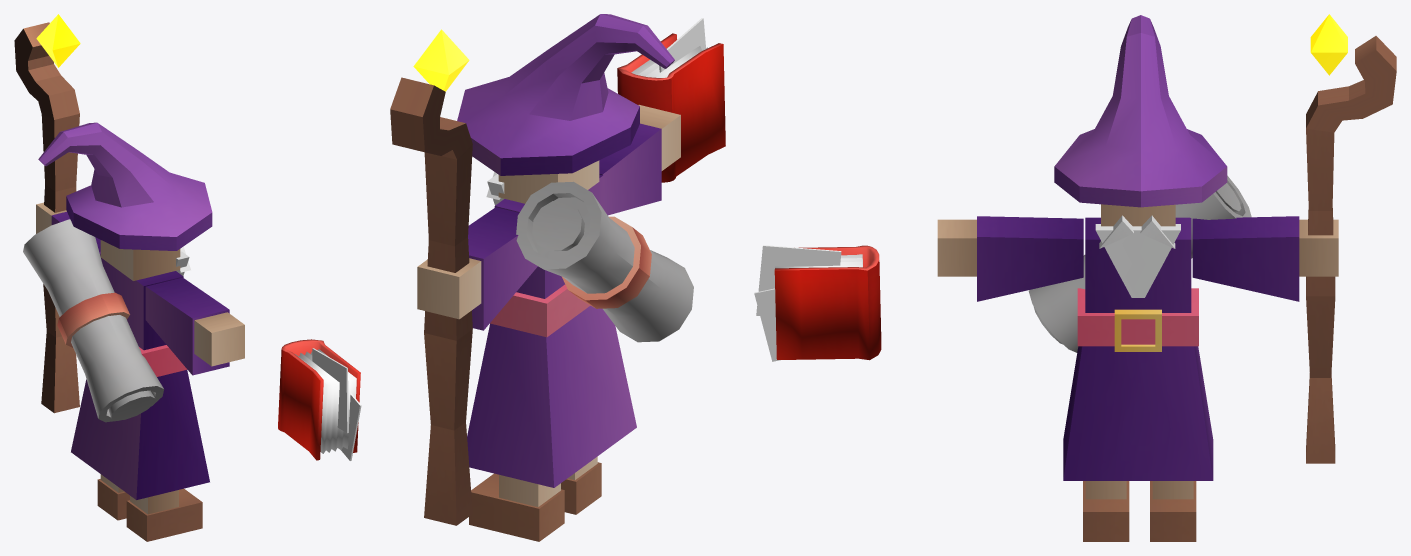
Rendered from mage1.glb.
3 views of the same model, side by side, from view 1: azimuth 30°, elevation 25°; view 2: azimuth 150°, elevation 25°; view 3: azimuth 270°, elevation 25° (orthographic). The views are drawn at different scales.
Parts seen in each view (by area): view 1: Cylinder.001, Cylinder, Cube.002, Cube.005, Cube.168, Cube.013, Cube.007, Cube.001, Cube.014, Cube.169, Cube, Cylinder.002 (+7 smaller); view 2: Cube.002, Cylinder.001, Cube.005, Cylinder, Cube.168, Cube.003, Cube.013, Cube.010, Cube.004, Cube.011, Cylinder.002, Cube.008 (+7 smaller); view 3: Cube.002, Cylinder.001, Cube.005, Cube.168, Cube.003, Cube.013, Cube.001, Cylinder, Cube.011, Cube.015, Cube.014, Cube.007 (+10 smaller).
Boxes of the visible parts, bbox=[...] form: Cylinder.001: bbox=[38, 122, 212, 250]; Cylinder: bbox=[23, 219, 164, 422]; Cube.002: bbox=[71, 370, 209, 499]; Cube.005: bbox=[14, 22, 79, 413]; Cube.168: bbox=[278, 339, 360, 460]; Cube.013: bbox=[145, 277, 229, 375]; Cube.007: bbox=[126, 488, 202, 541]; Cube.001: bbox=[99, 251, 183, 350]; Cube.014: bbox=[194, 312, 244, 366]; Cube.169: bbox=[295, 349, 356, 453]; Cube: bbox=[100, 240, 180, 280]; Cylinder.002: bbox=[57, 292, 129, 347]; Cube.002: bbox=[467, 305, 636, 487]; Cylinder.001: bbox=[457, 14, 674, 175]; Cube.005: bbox=[390, 77, 472, 525]; Cylinder: bbox=[516, 181, 693, 342]; Cube.168: bbox=[617, 33, 725, 182]; Cube.003: bbox=[468, 207, 537, 330]; Cube.013: bbox=[599, 123, 661, 215]; Cube.010: bbox=[469, 473, 564, 541]; Cube.004: bbox=[417, 258, 481, 319]; Cube.011: bbox=[490, 284, 590, 337]; Cylinder.002: bbox=[561, 216, 651, 308]; Cube.008: bbox=[413, 29, 469, 91]; Cube.002: bbox=[1063, 346, 1213, 480]; Cylinder.001: bbox=[1054, 15, 1227, 207]; Cube.005: bbox=[1306, 36, 1396, 463]; Cube.168: bbox=[774, 245, 881, 360]; Cube.003: bbox=[1192, 216, 1299, 301]; Cube.013: bbox=[977, 216, 1083, 301]; Cube.001: bbox=[1085, 217, 1191, 312]; Cylinder: bbox=[1028, 175, 1251, 352]; Cube.011: bbox=[1077, 288, 1198, 346]; Cube.015: bbox=[1095, 224, 1180, 297]; Cube.014: bbox=[937, 219, 976, 276]; Cube.007: bbox=[1083, 481, 1129, 541].
Size of the model in its own units: 2.53 by 6.48 by 7.43.
3 materials, 2 textured.
